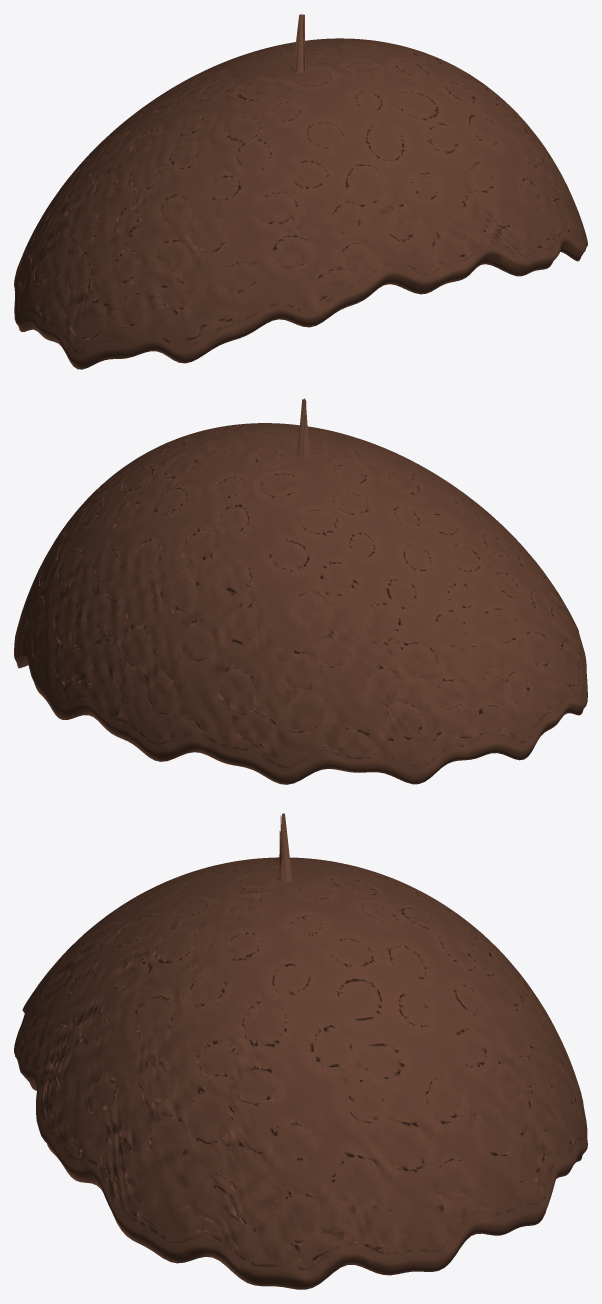
Rendered from Masculine-afro-beanie251-hair.glb.
3 renders of one model, top to bottom at view 1: azimuth 30°, elevation 25°; view 2: azimuth 150°, elevation 25°; view 3: azimuth 270°, elevation 25°, orthographic. The views are drawn at different scales.
Visible parts, largest first — view 1: 226 hair / Hair / sculpted afro251; view 2: 226 hair / Hair / sculpted afro251; view 3: 226 hair / Hair / sculpted afro251.
Part boxes in pixels (<box>): 226 hair / Hair / sculpted afro251: <box>14,14,587,369</box>; 226 hair / Hair / sculpted afro251: <box>14,398,587,784</box>; 226 hair / Hair / sculpted afro251: <box>14,813,587,1289</box>.
Bounding box in the file's own units: 0.9425 × 0.4808 × 0.7564.
